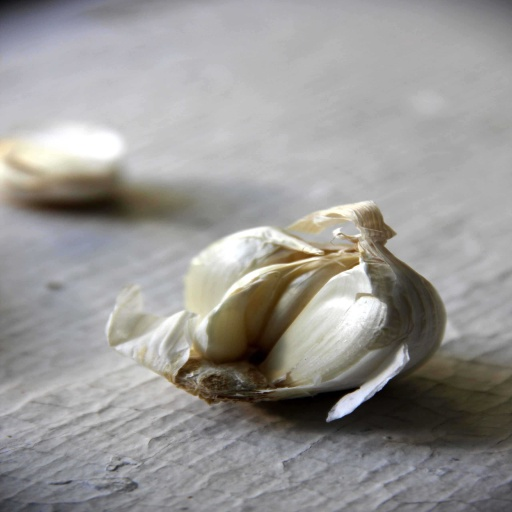Knoblauch: (106, 198, 447, 422)
